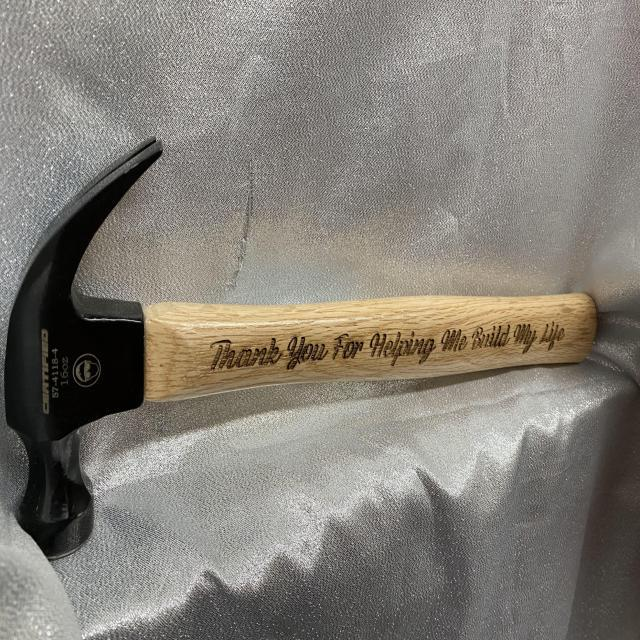hammer: (0, 128, 605, 567)
